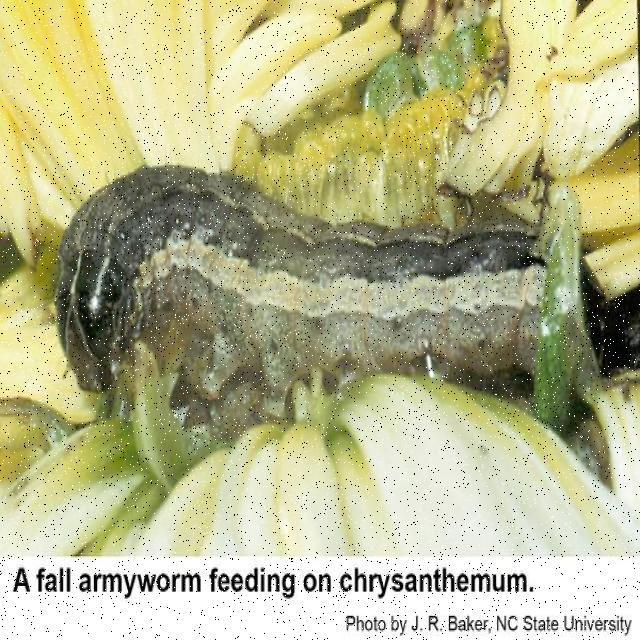army worm: (36, 114, 611, 434)
